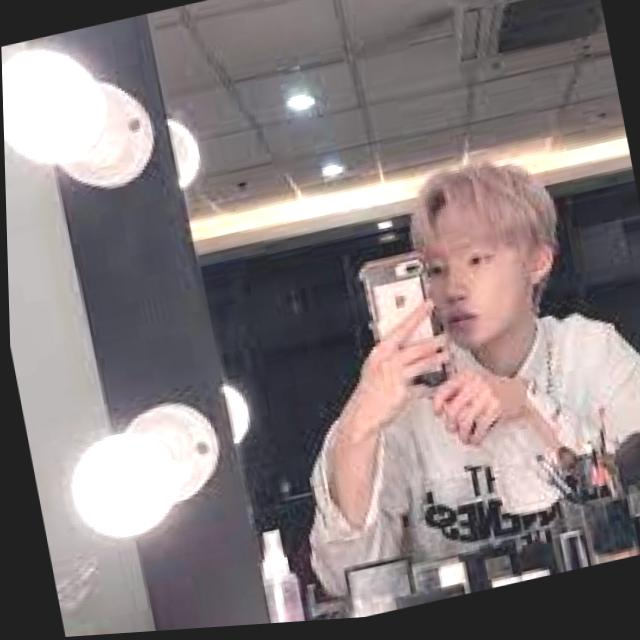Smartphone: (356, 252, 453, 406)
